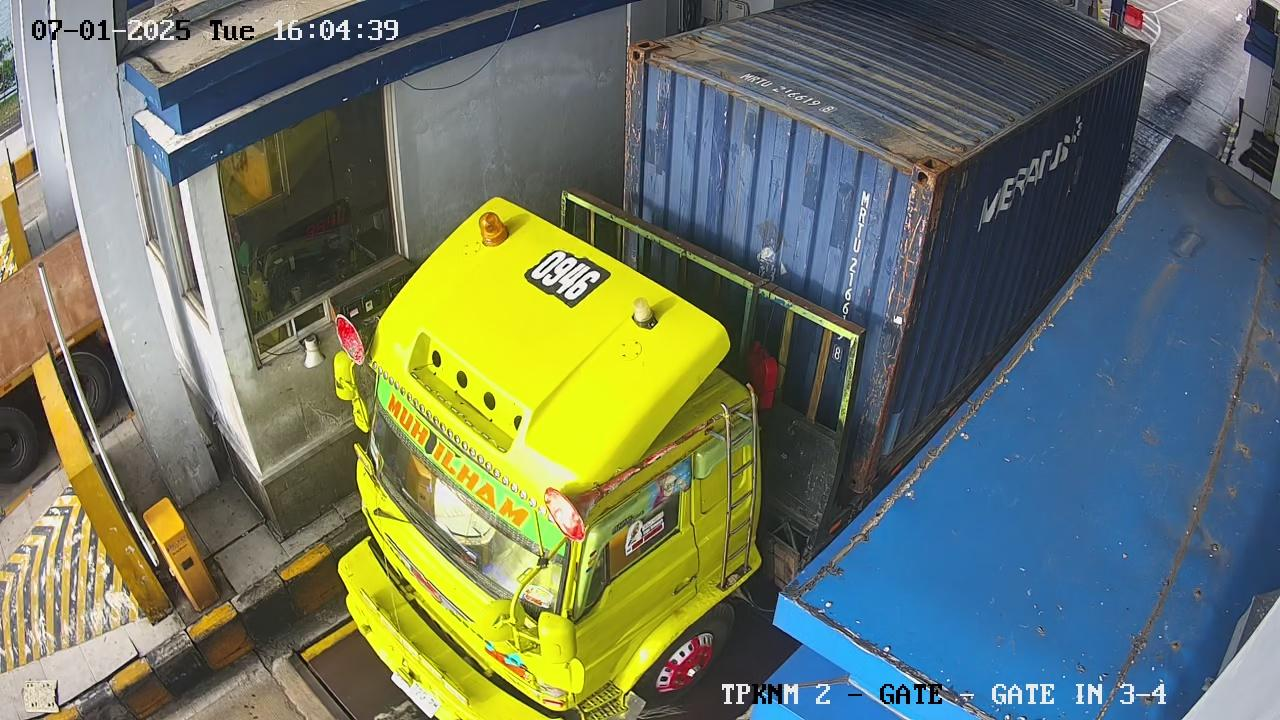Container_ID: (735, 69, 837, 115)
Container_ID_Vertikal: (839, 189, 871, 318), (844, 327, 864, 364)
